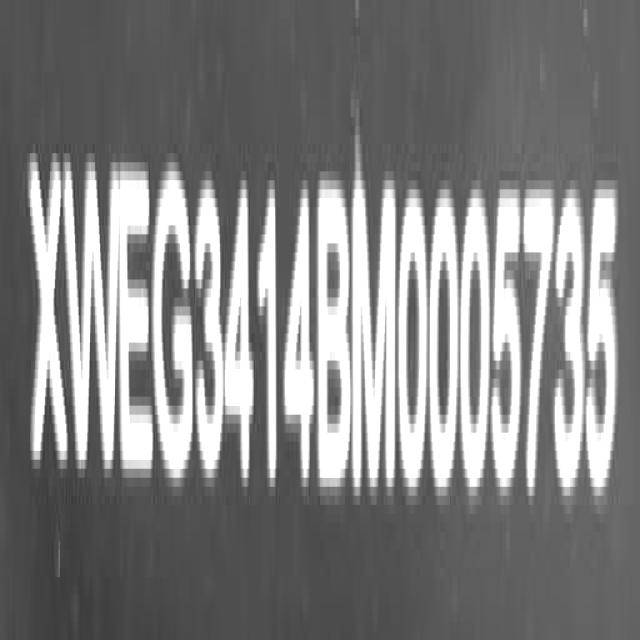0: (429, 173, 464, 506), (398, 170, 431, 506), (462, 174, 492, 508)
1: (259, 161, 281, 504)
3: (553, 178, 585, 504), (196, 166, 227, 499)
4: (285, 164, 318, 506), (224, 165, 256, 503)
5: (588, 172, 624, 507), (493, 168, 526, 510)
7: (522, 168, 555, 511)
B: (317, 167, 352, 507)
E: (120, 153, 158, 492)
G: (153, 151, 195, 492)
M: (352, 161, 399, 508)
W: (66, 141, 120, 491)
X: (28, 143, 71, 494)
